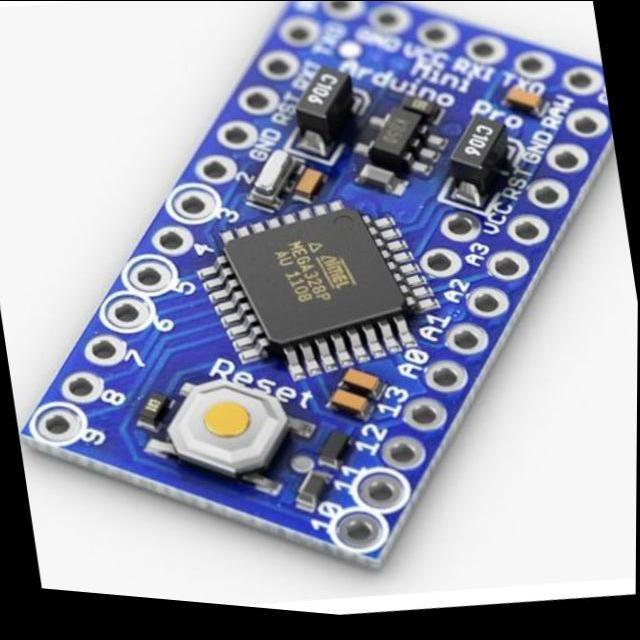Arduino-ProMini: (22, 3, 611, 567)
